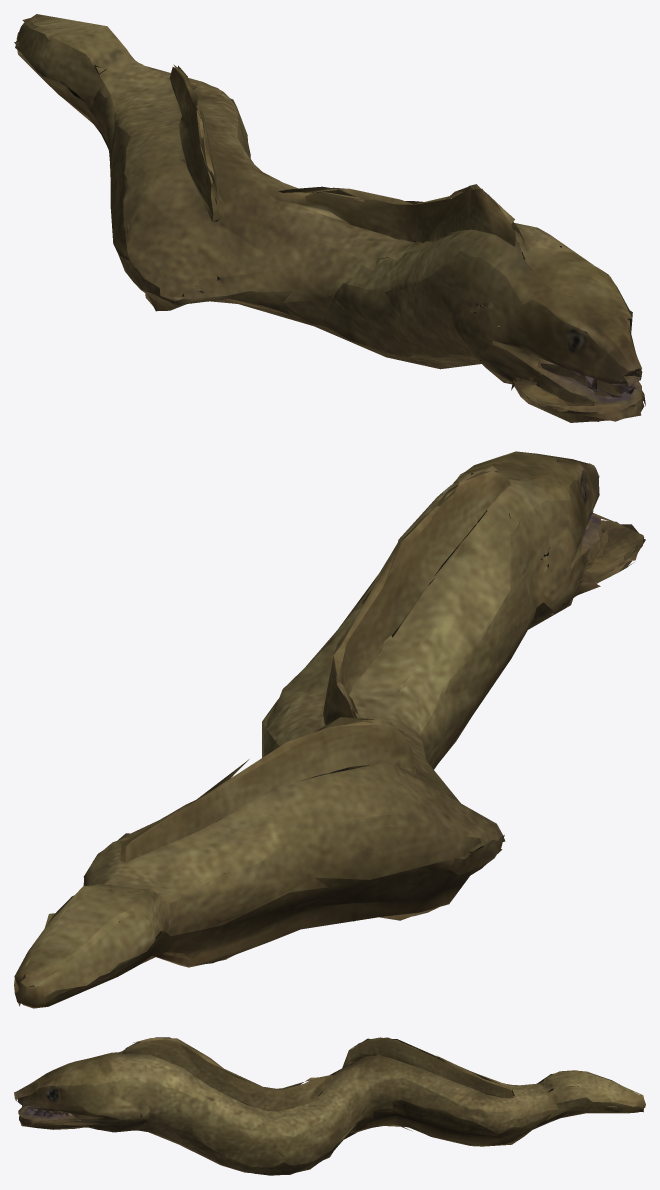
Rendered from moray.glb.
The picture shows the model from 3 angles, top to bottom: view 1: azimuth 30°, elevation 25°; view 2: azimuth 150°, elevation 25°; view 3: azimuth 270°, elevation 25°; orthographic projection. The views are drawn at different scales.
Parts seen in each view (by area): view 1: moray | Lux3D; view 2: moray | Lux3D; view 3: moray | Lux3D.
Part boxes in pixels (left/top/right/bottom): moray | Lux3D: left=14, top=14, right=645, bottom=422; moray | Lux3D: left=14, top=451, right=645, bottom=1008; moray | Lux3D: left=14, top=1037, right=645, bottom=1175.
Bounding box in the file's own units: 1.21 × 1 × 4.43.
1 material, 1 textured.
